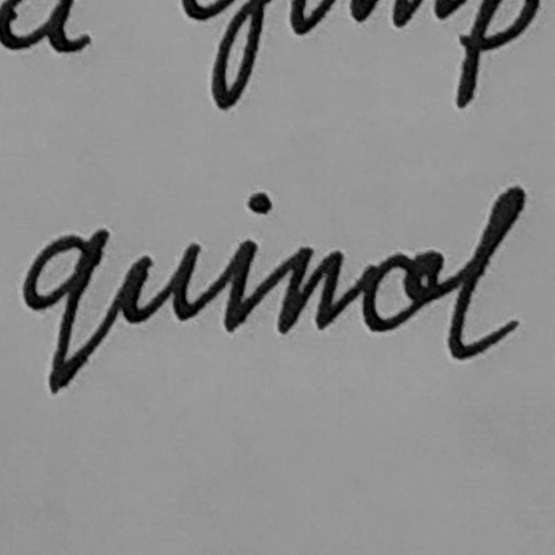i: (214, 188, 275, 335)
l: (445, 182, 530, 363)
n: (276, 239, 349, 342)
o: (356, 243, 448, 338)
q: (18, 225, 115, 401)
u: (116, 236, 205, 326)
